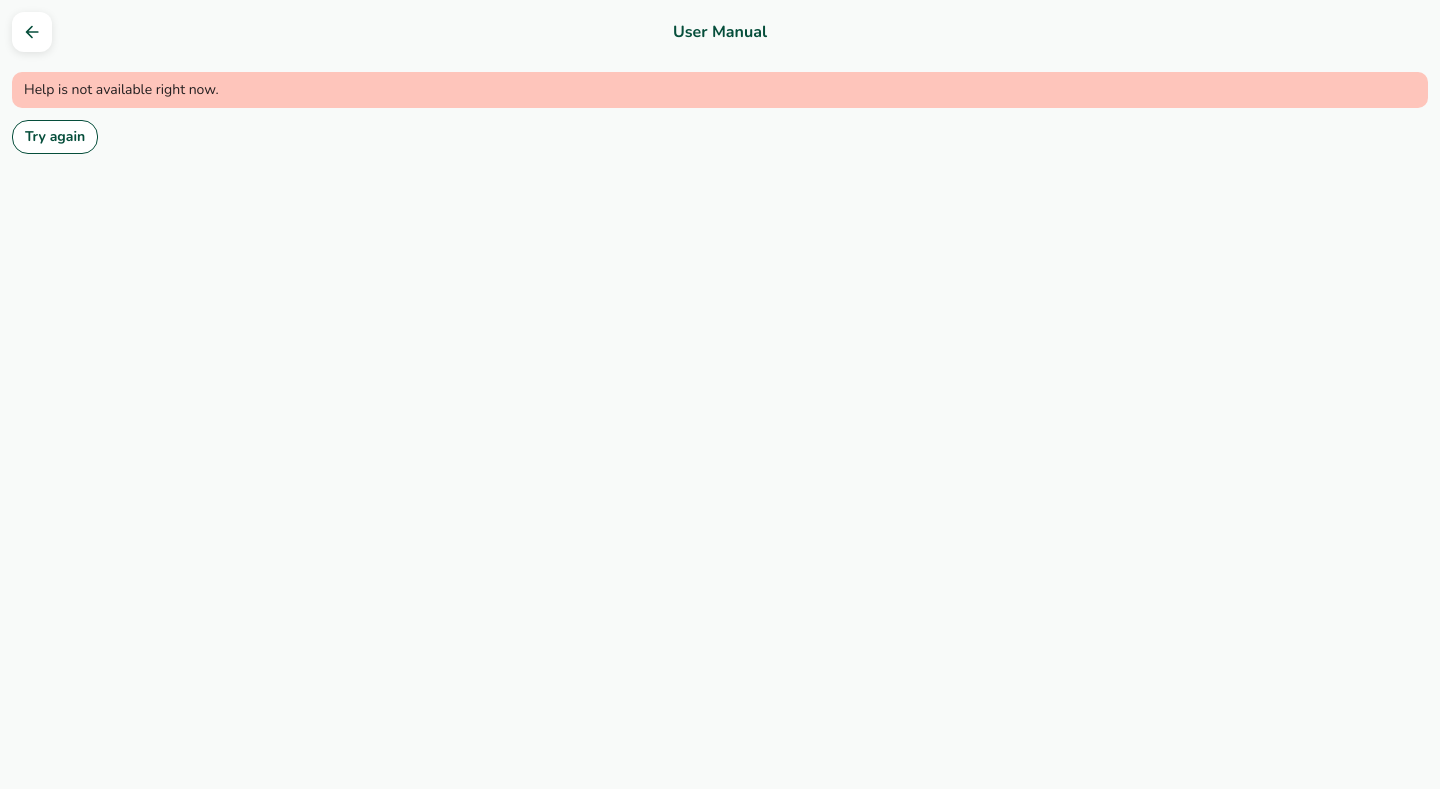
Help home › index failure (status 503) → Help is not available right now., and Try again retries
The width and height of the screenshot is (1440, 789).
Expected: the text "Help is not available right now." is shown, 12,72 -> 1428,108
Click the button "Try again" at [55, 137], box 12,120 -> 98,154
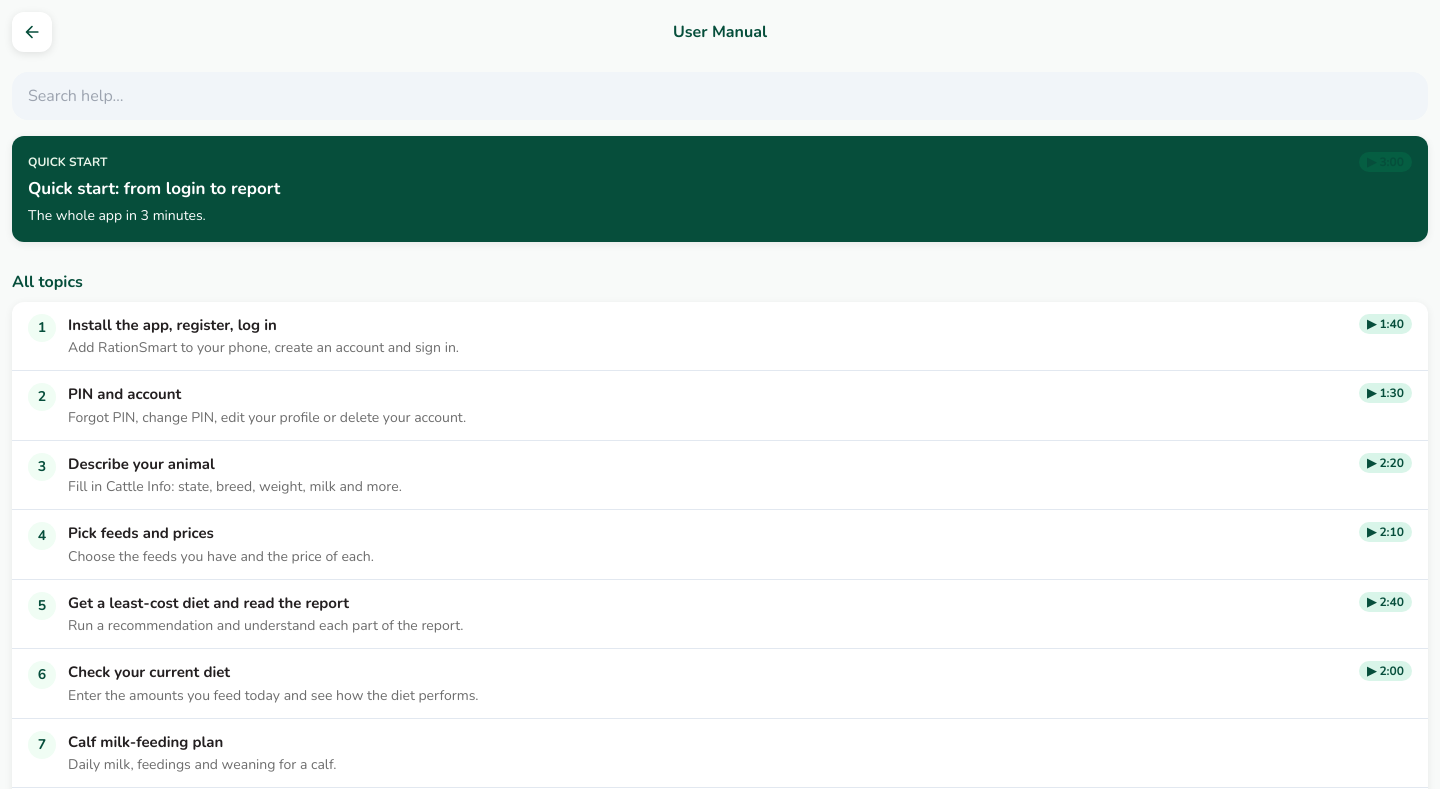
Expected: the text "Pick feeds and prices" is shown, 68,523 -> 214,543
